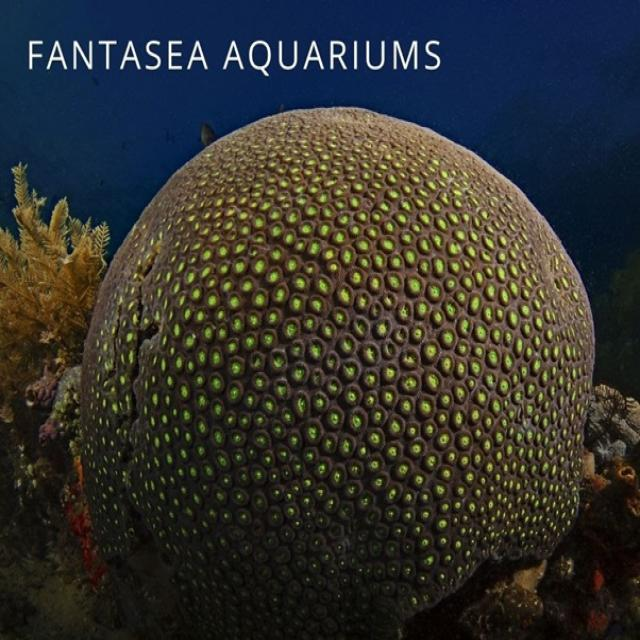Coral: (77, 104, 597, 640), (1, 159, 111, 418)
